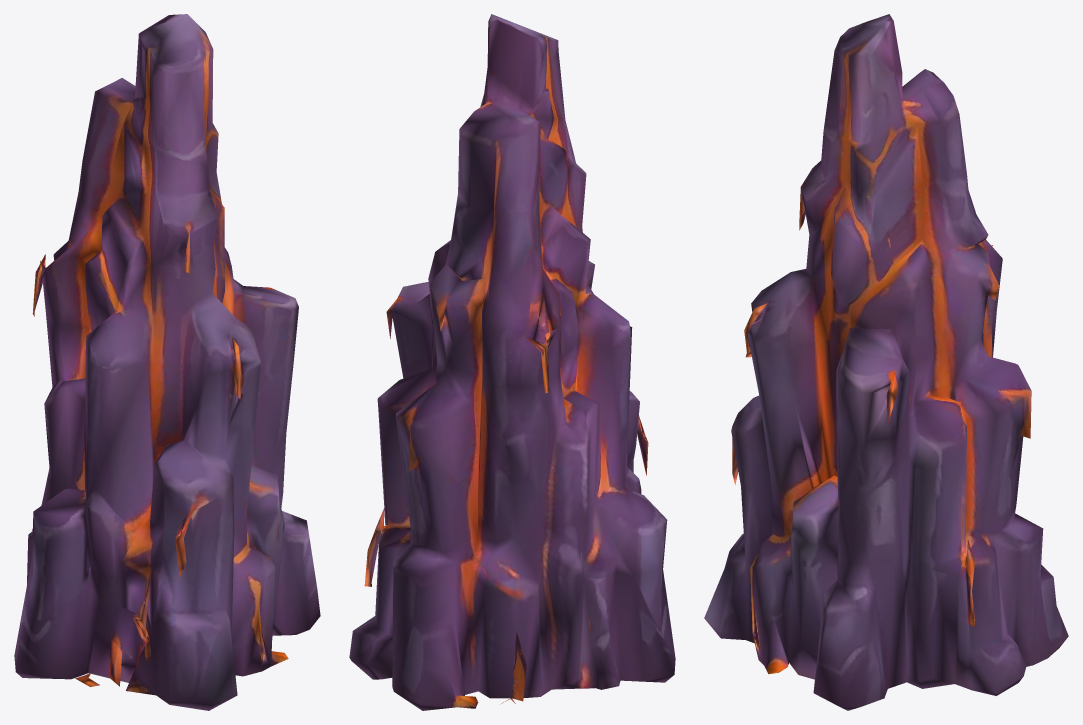
Rendered from forge-lava-spire-lod-4QgG5Q8N.glb.
The picture shows the model from 3 angles, left to right: view 1: azimuth 30°, elevation 25°; view 2: azimuth 150°, elevation 25°; view 3: azimuth 270°, elevation 25°; orthographic projection.
Visible parts, largest first — view 1: tripo_node_5fbe0914-af01-4801-863b-689d8286a2dd; view 2: tripo_node_5fbe0914-af01-4801-863b-689d8286a2dd; view 3: tripo_node_5fbe0914-af01-4801-863b-689d8286a2dd.
Part boxes in pixels (box(x1,y1,x2,y2)): tripo_node_5fbe0914-af01-4801-863b-689d8286a2dd: box(14, 14, 320, 710); tripo_node_5fbe0914-af01-4801-863b-689d8286a2dd: box(349, 14, 675, 710); tripo_node_5fbe0914-af01-4801-863b-689d8286a2dd: box(704, 14, 1068, 710).
Bounding box in the file's own units: 0.4843 × 0.9956 × 0.5203.
1 material, 1 textured.
